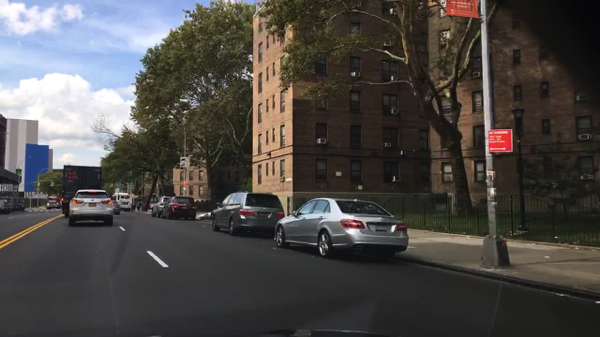car: (272, 197, 410, 257), (211, 193, 286, 236), (67, 187, 115, 227), (160, 196, 198, 221), (150, 196, 173, 217), (111, 192, 133, 210), (0, 198, 12, 215), (46, 196, 60, 210), (111, 200, 121, 215), (12, 202, 25, 210)
traffic light: (108, 183, 114, 188), (48, 181, 53, 186)
traffic sign: (445, 0, 479, 21), (487, 129, 513, 153), (180, 156, 190, 168), (129, 182, 135, 189), (183, 181, 188, 186)
truck: (60, 165, 103, 217)
